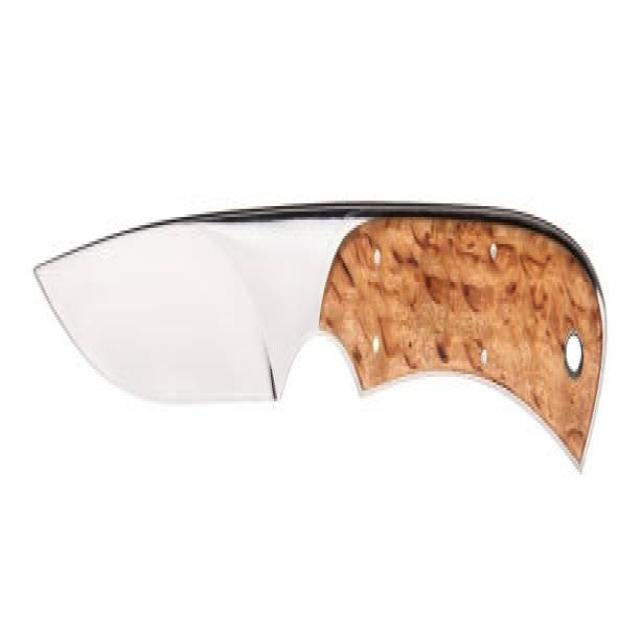knife: (27, 192, 608, 479)
